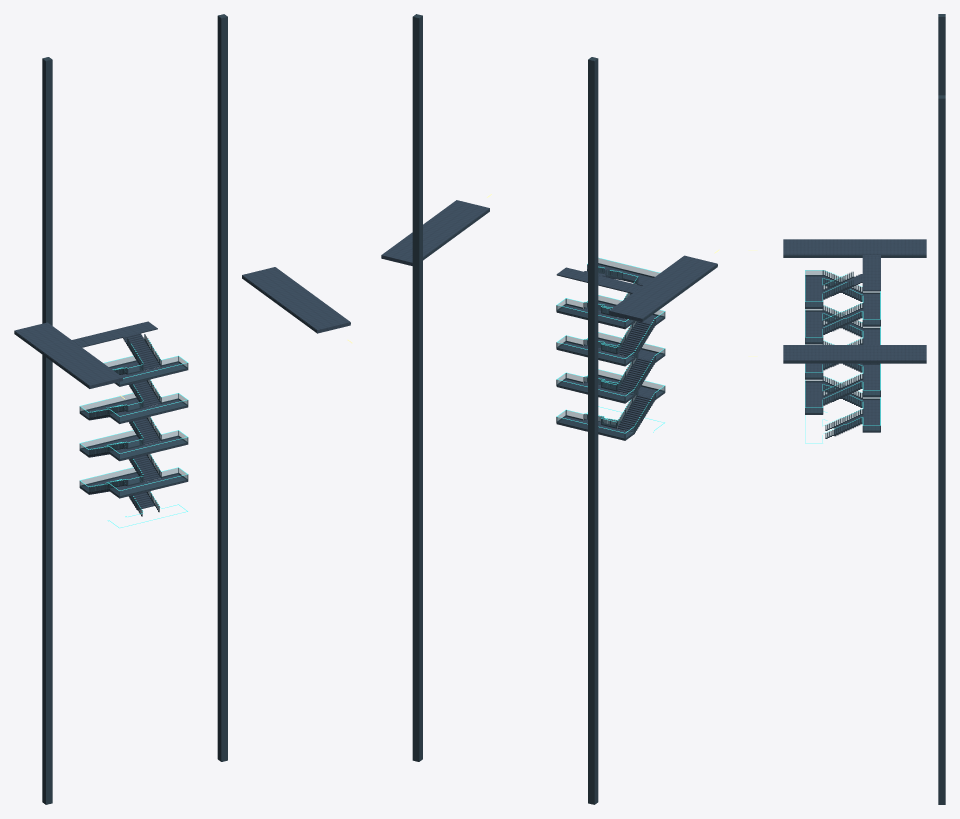
File: v02-detailed-02-03-coffered.glb
The picture shows the model from 3 angles, left to right: view 1: azimuth 30°, elevation 25°; view 2: azimuth 150°, elevation 25°; view 3: azimuth 270°, elevation 25°; orthographic projection. The views are drawn at different scales.
Parts seen in each view (by area): view 1: v02-detailed-02-03-coffered; view 2: v02-detailed-02-03-coffered; view 3: v02-detailed-02-03-coffered.
Boxes of the visible parts, left/top/right/bottom form: v02-detailed-02-03-coffered: left=14, top=14, right=352, bottom=804; v02-detailed-02-03-coffered: left=381, top=14, right=719, bottom=804; v02-detailed-02-03-coffered: left=748, top=14, right=945, bottom=804.
Bounding box in the file's own units: 47.1 × 128 × 32.35.
Materials: 5 (1 with a texture image).
